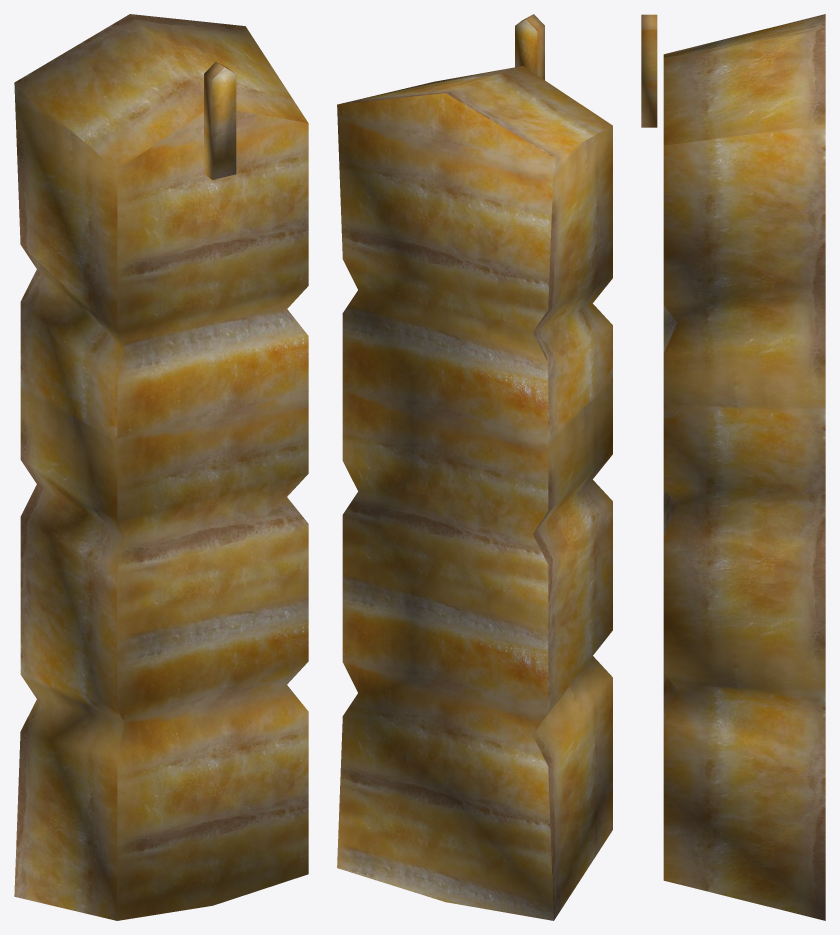
Rendered from sausage.obj.
3 renders of one model, left to right at view 1: azimuth 30°, elevation 25°; view 2: azimuth 150°, elevation 25°; view 3: azimuth 270°, elevation 25°, orthographic. The views are drawn at different scales.
Parts seen in each view (by area): view 1: Box001; view 2: Box001; view 3: Box001.
Part boxes in pixels (x1,y1,x2,y2): Box001: (14, 14, 308, 920); Box001: (337, 14, 612, 920); Box001: (641, 14, 825, 920).
Size of the model in its own units: 4.83 by 17.54 by 3.41.
